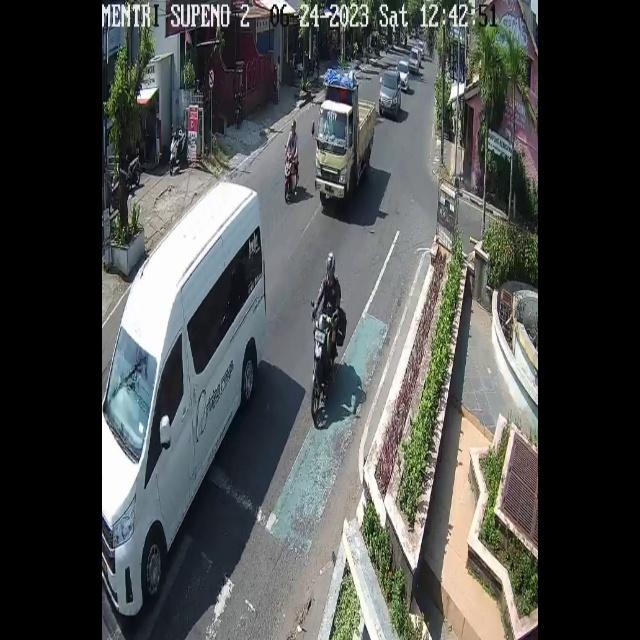bus: (309, 312, 338, 422), (284, 147, 299, 199)
car: (102, 183, 267, 617)
motorcycle: (379, 70, 401, 120), (397, 59, 411, 92)
truck: (316, 80, 376, 207)
